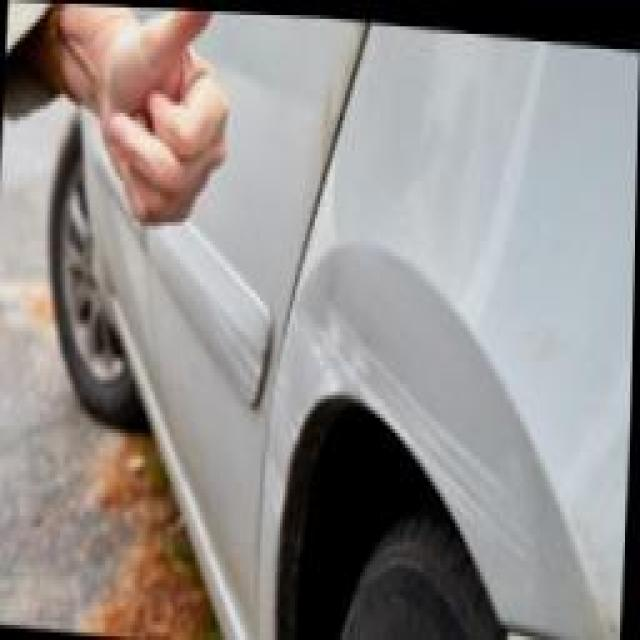Fender: (255, 252, 544, 611)
